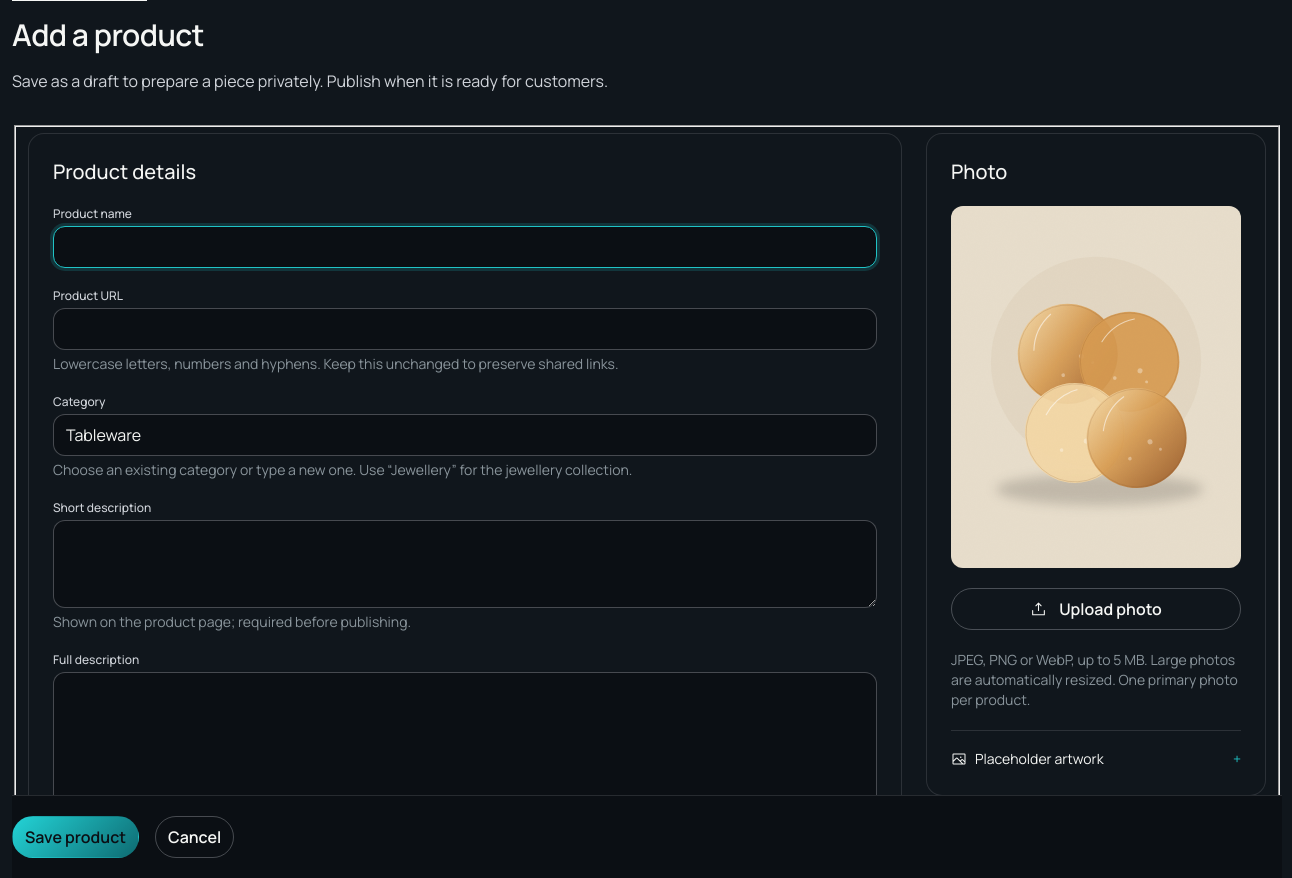
owner product editor › generates a URL for a new product and validates before publishing
The image size is (1292, 878).
Type "New piece" into the field labelled "Product name" at (465, 247), box [53, 226, 877, 268]
(page scrolled)
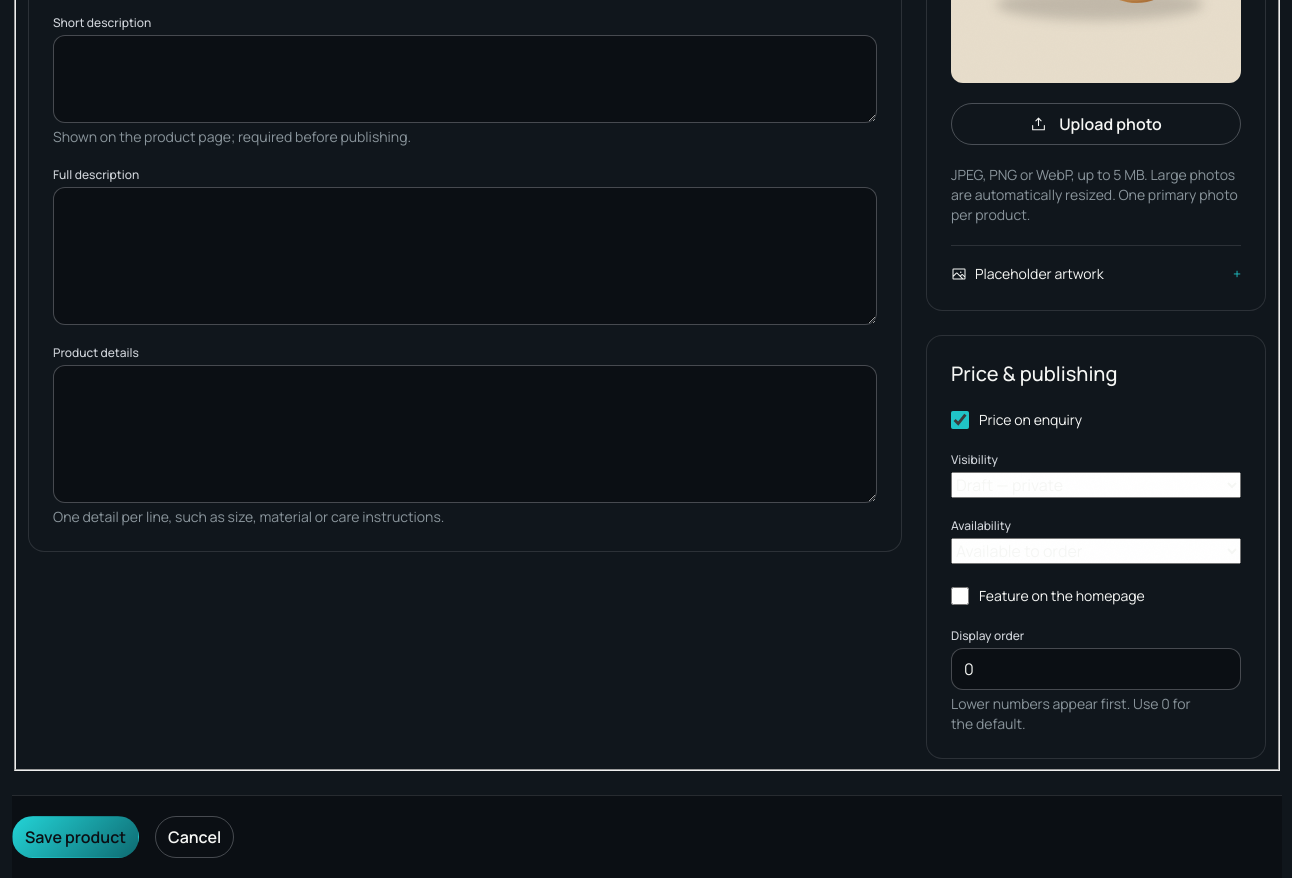
Select "Published — visible to customers" in the dropdown labelled "Visibility" at (1096, 485), box [951, 472, 1241, 498]
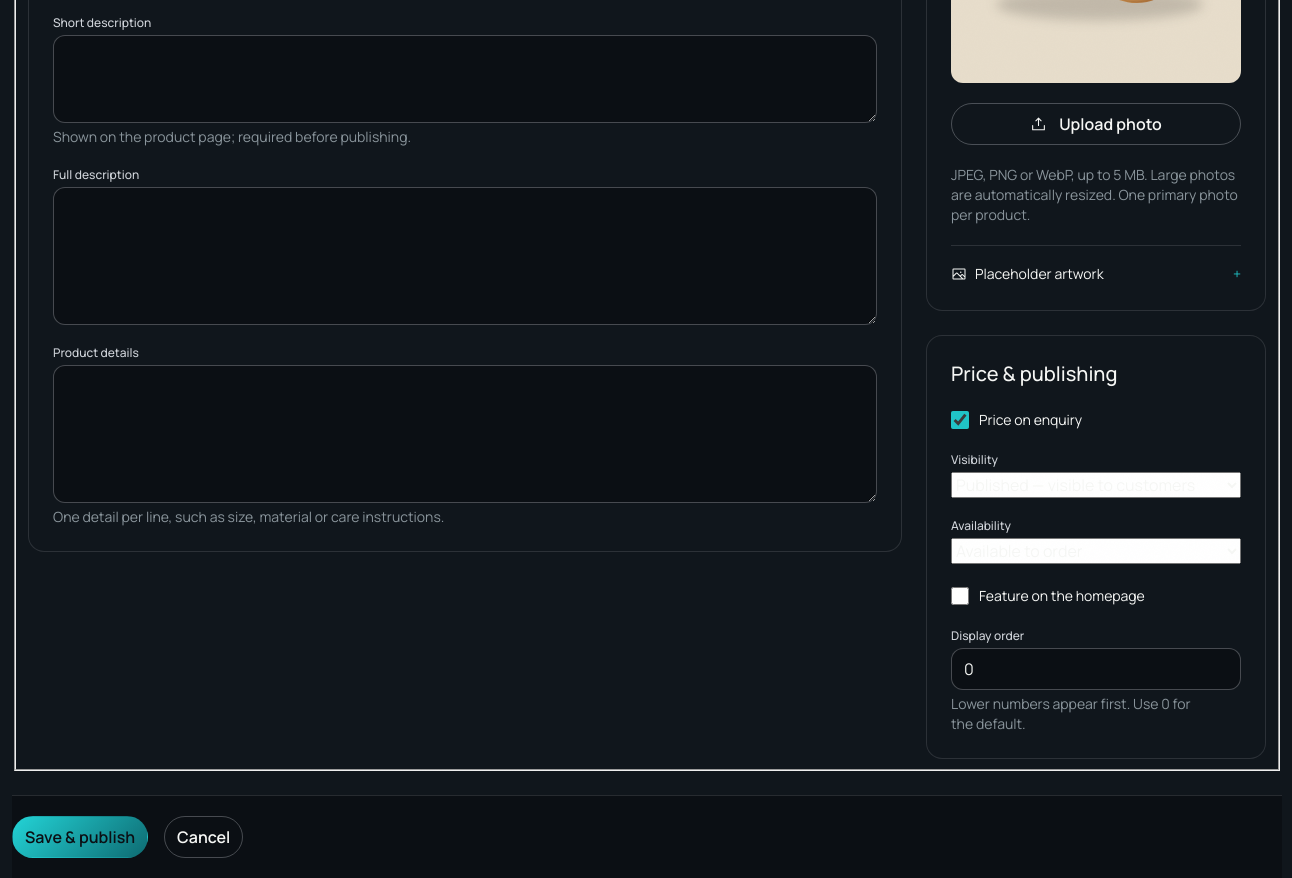
Click the button "Save & publish" at (80, 837), box [12, 816, 148, 858]
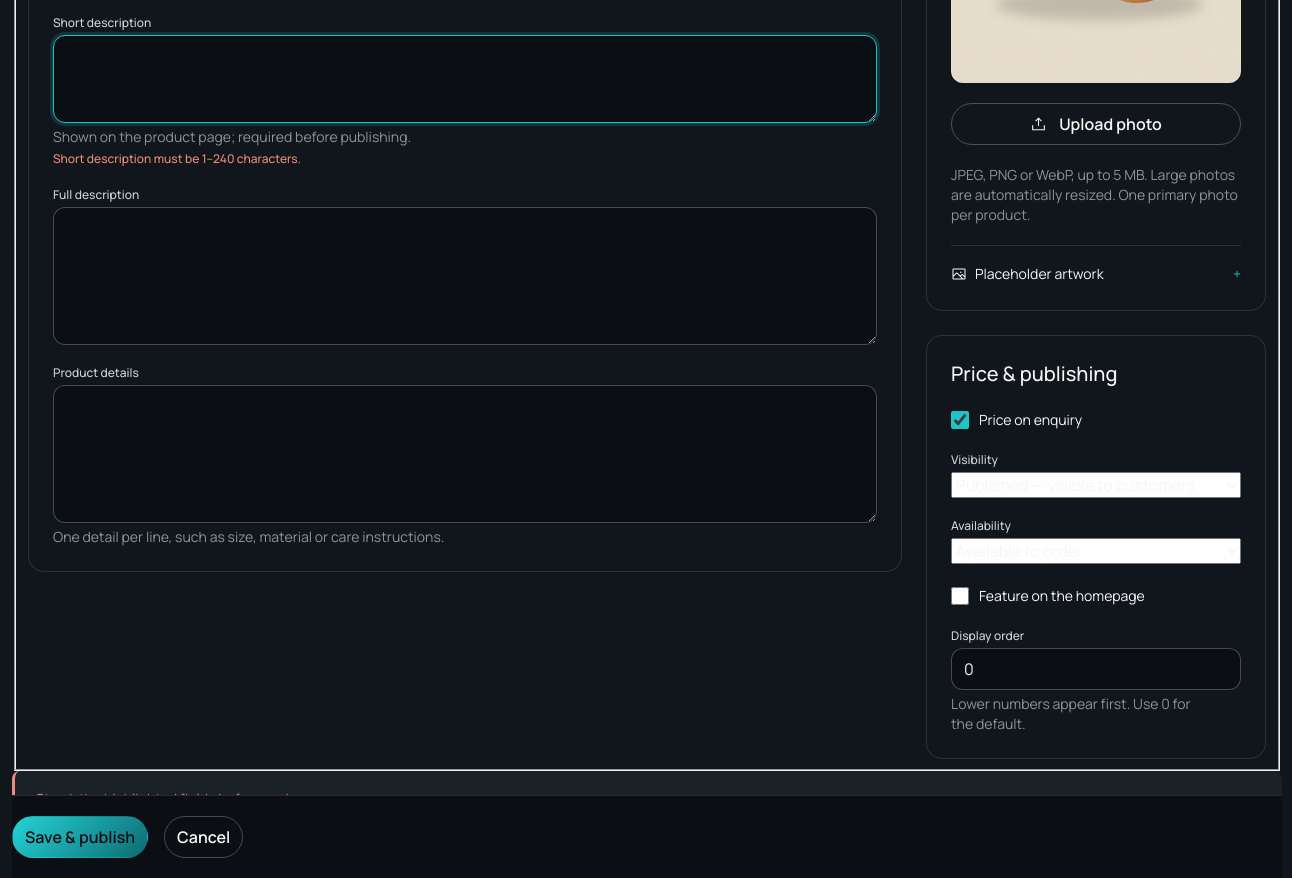
Check: the message shows "highlighted", box [35, 789, 309, 808]
